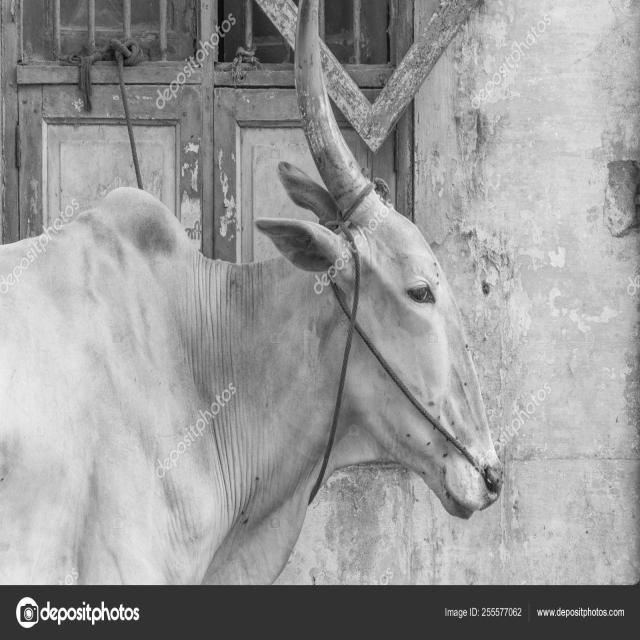Cow: (1, 0, 504, 585)
